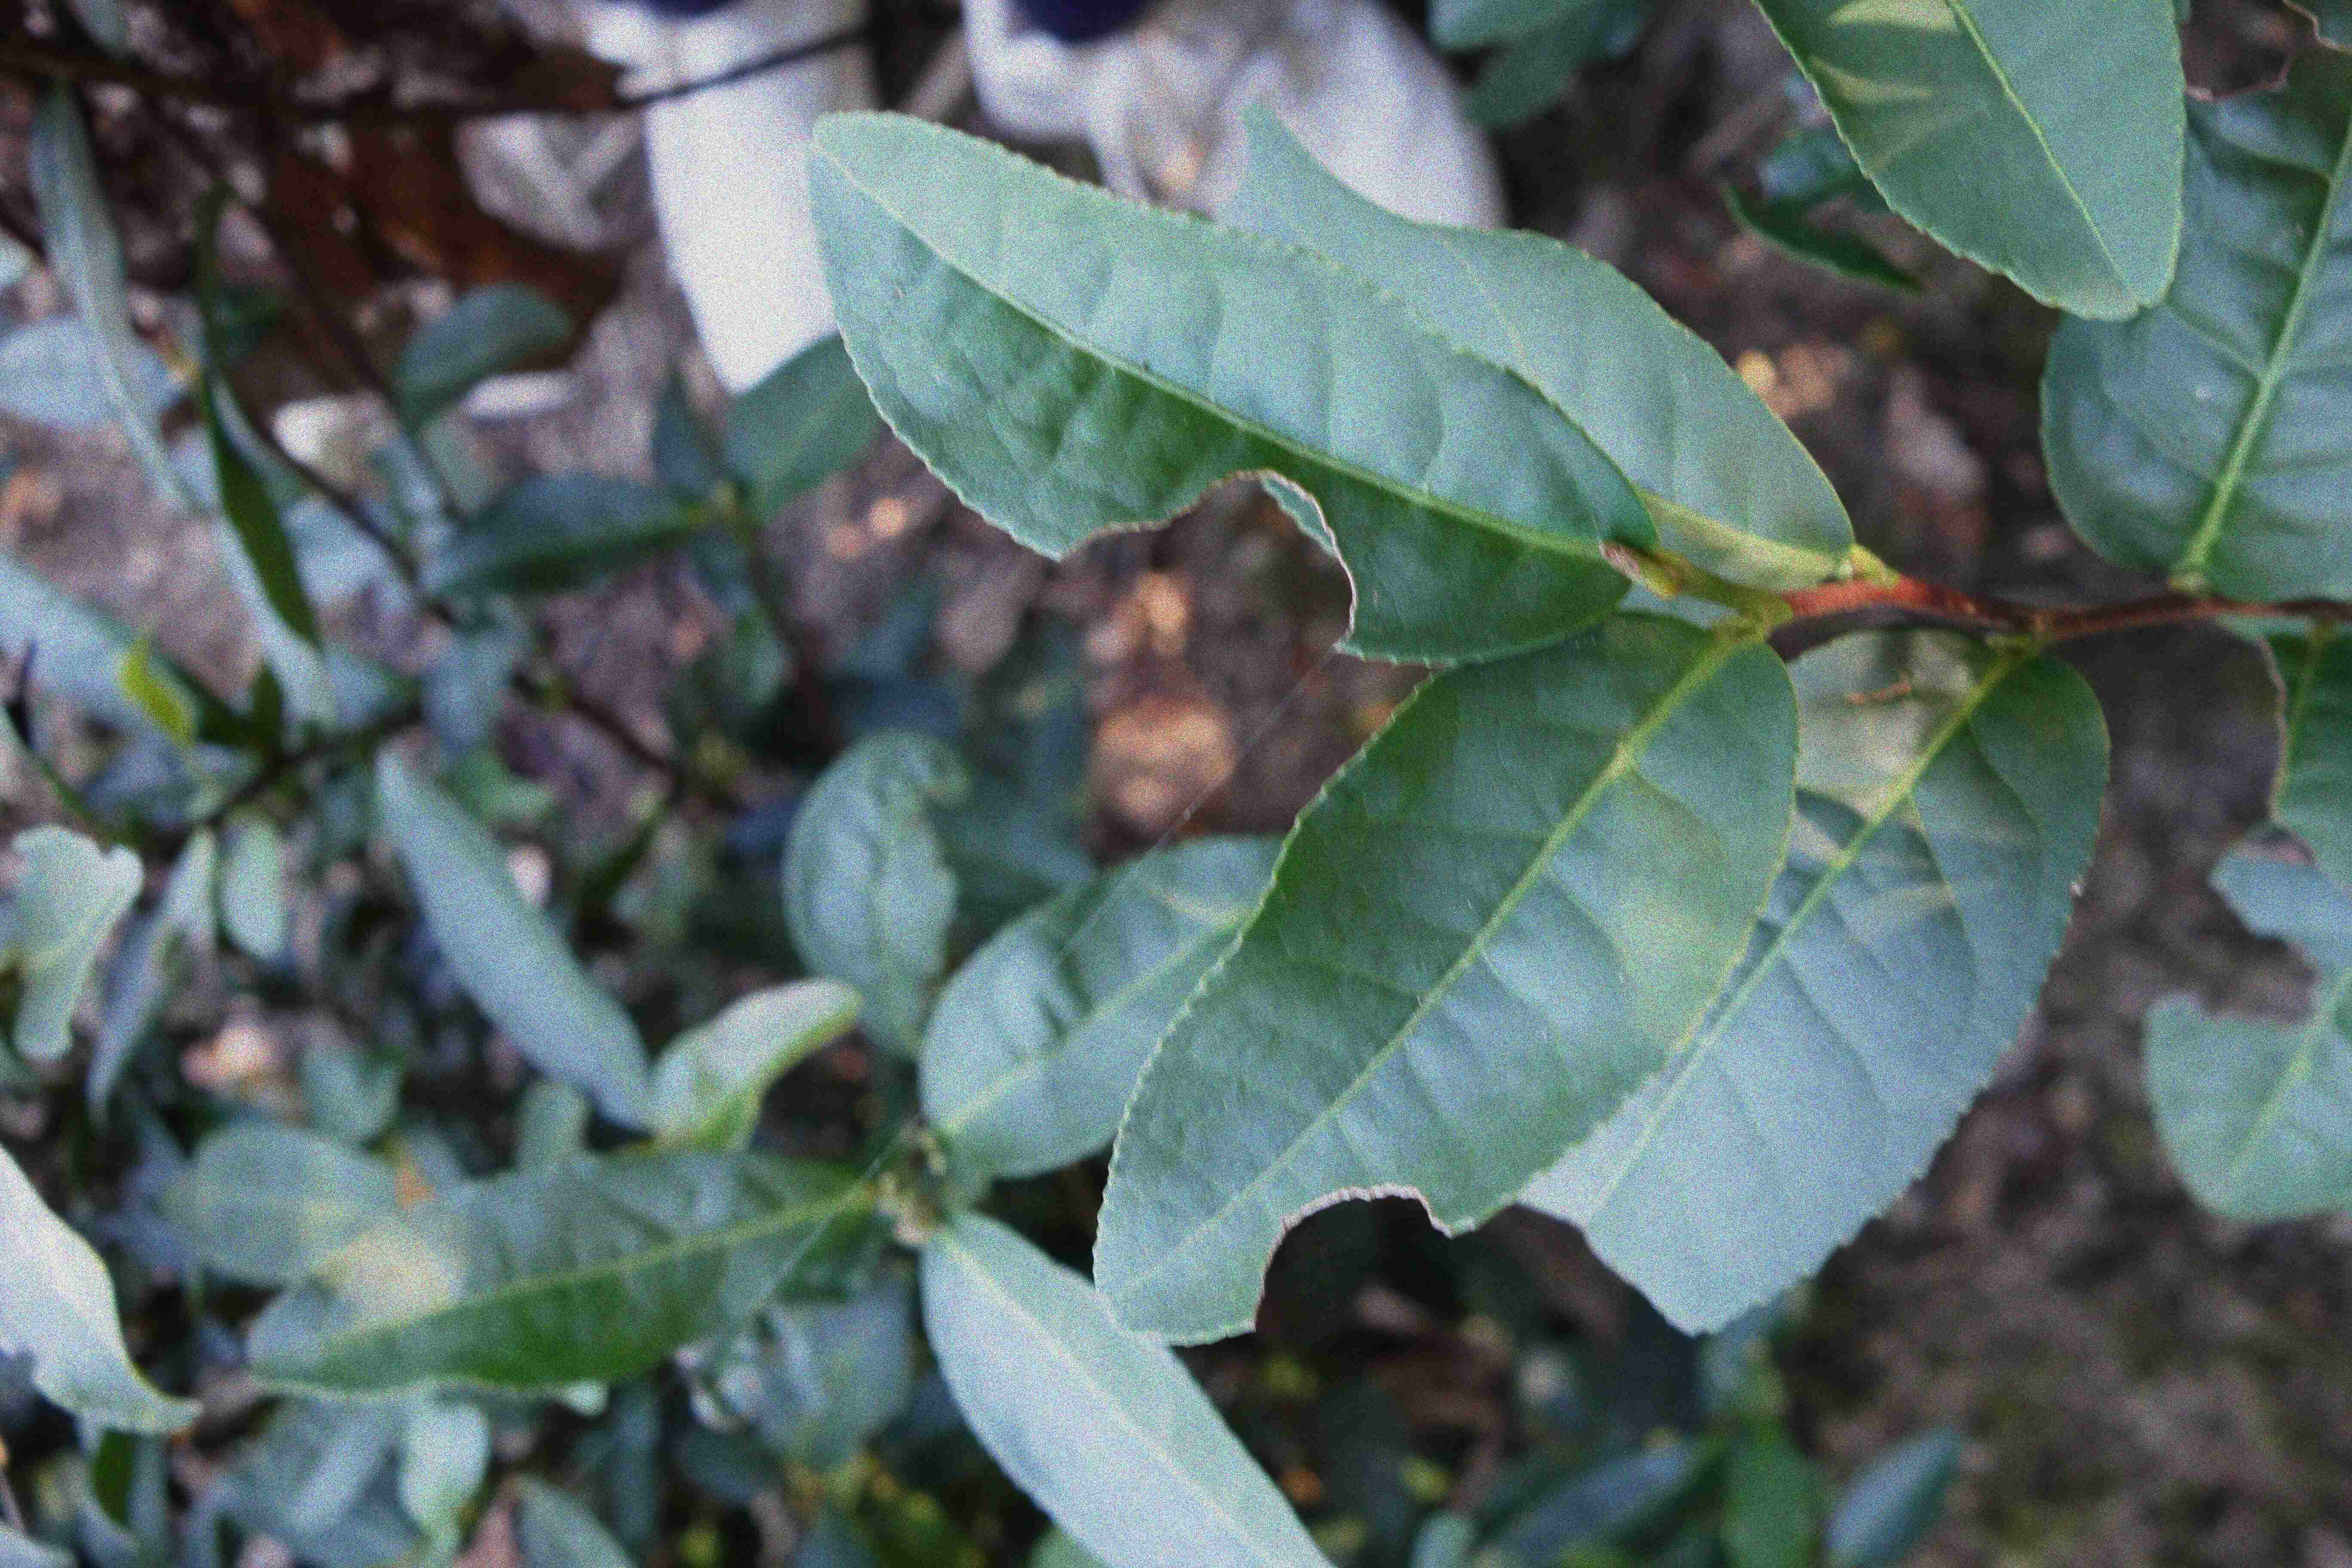chihuo_low: (1095, 616, 1795, 1347), (800, 101, 1662, 672), (1489, 633, 2116, 1333)
healthy: (1746, 3, 2186, 325)
